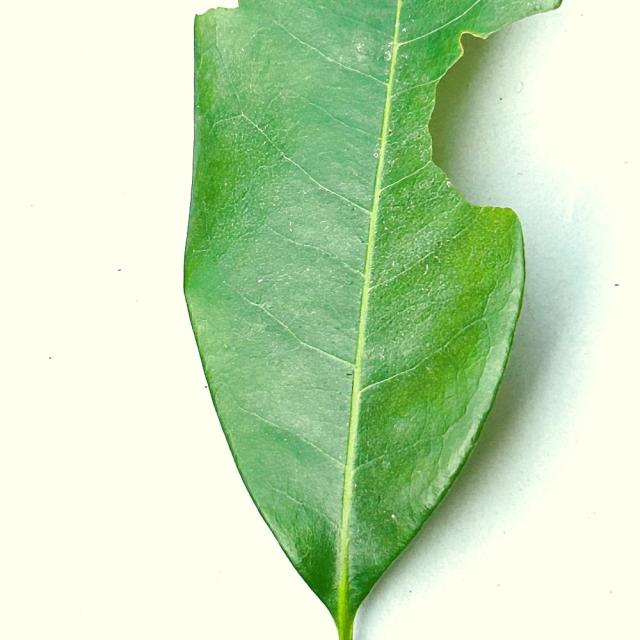Deficiency Leaf: (429, 6, 572, 228)
Lychee: (182, 0, 567, 639)
